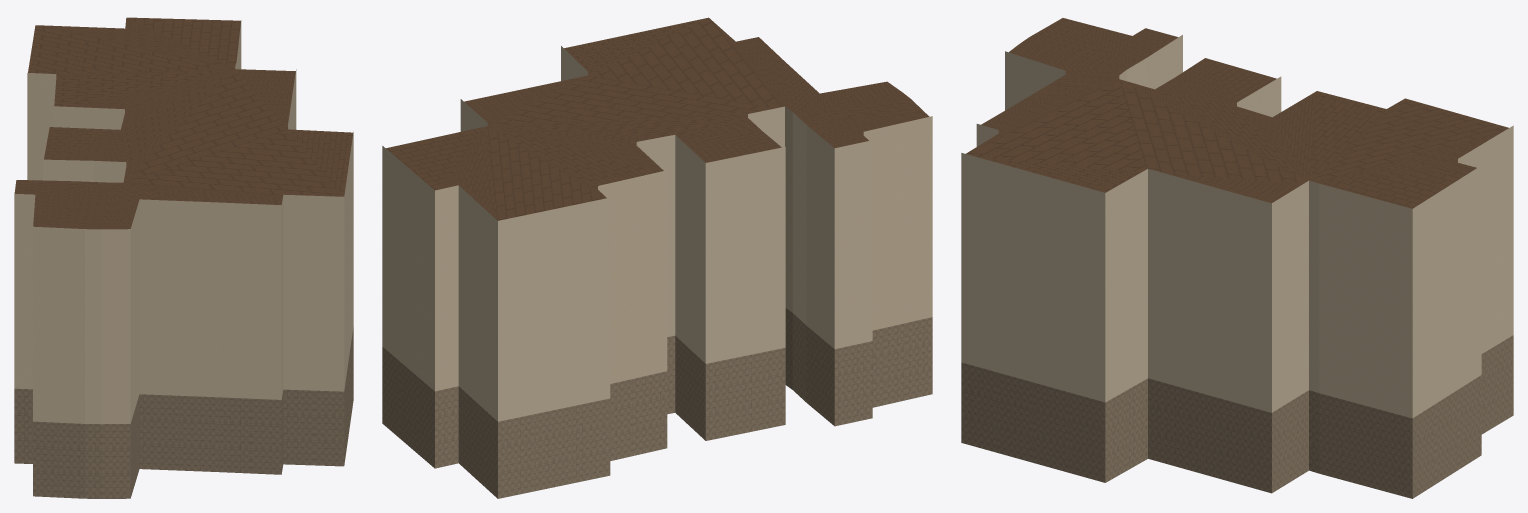
The model's file is core_0057.gltf.
3 views of the same model, side by side, from view 1: azimuth 30°, elevation 25°; view 2: azimuth 150°, elevation 25°; view 3: azimuth 270°, elevation 25° (orthographic). The views are drawn at different scales.
Parts seen in each view (by area): view 1: core_0057; view 2: core_0057; view 3: core_0057.
Boxes of the visible parts, x1,y1,x2,y2 form: core_0057: [14, 17, 353, 498]; core_0057: [382, 17, 932, 498]; core_0057: [961, 18, 1513, 498].
Size of the model in its own units: 26.47 by 18.38 by 31.71.
3 materials, 3 textured.
